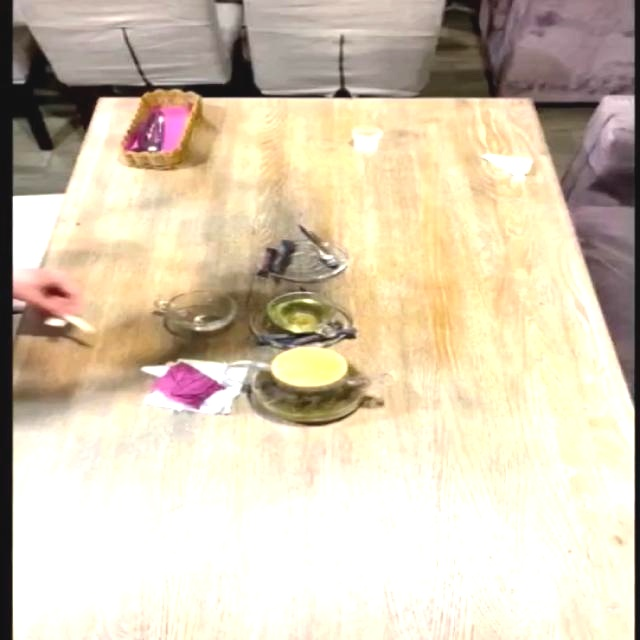tea: (225, 341, 383, 440)
